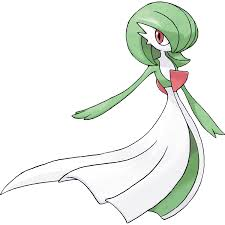gardevoir: (2, 1, 221, 225)
